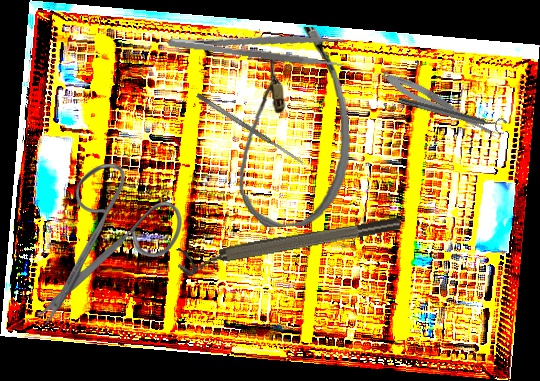Cannula: (230, 25, 355, 229)
Dressing Forceps: (166, 19, 347, 70)
Fixation Ring: (175, 213, 404, 278), (396, 91, 508, 136)
Iris Scissors: (35, 164, 182, 327)
Micro Scissor: (378, 67, 504, 143)
Spatula Surgical: (195, 92, 305, 166)
